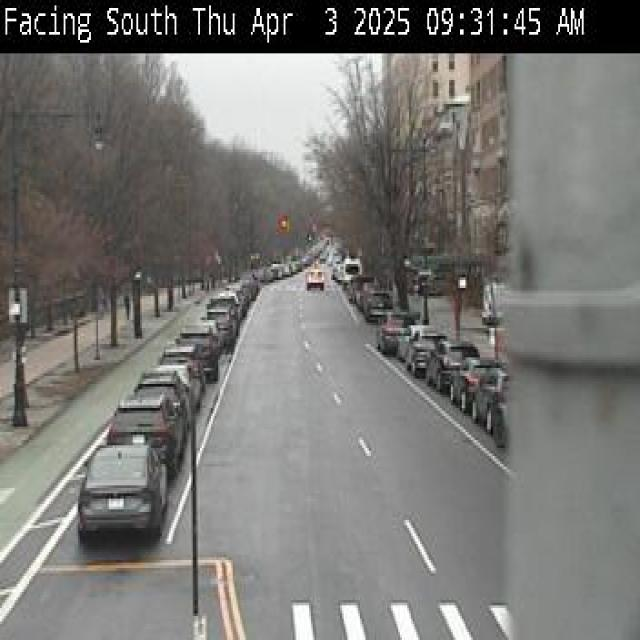parkedCars: (83, 316, 229, 428), (62, 430, 174, 536), (434, 358, 524, 441), (366, 325, 486, 386)
